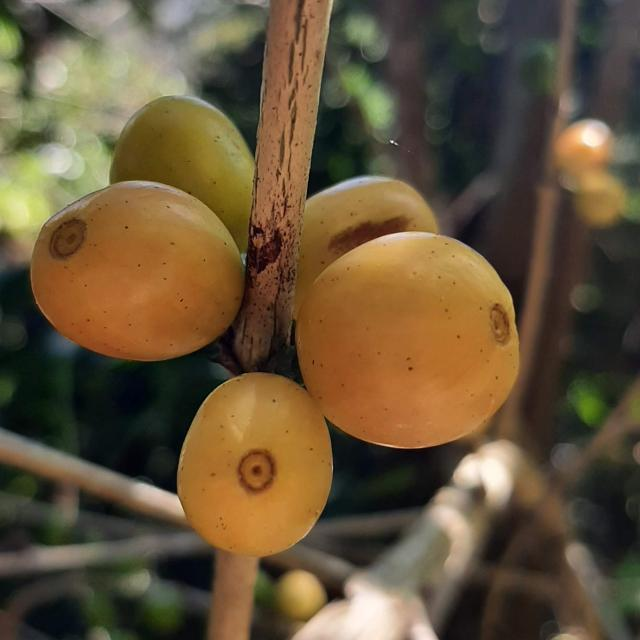Ripe: (296, 232, 520, 449), (30, 181, 244, 361), (177, 373, 332, 558), (109, 95, 254, 252), (293, 175, 439, 320)
